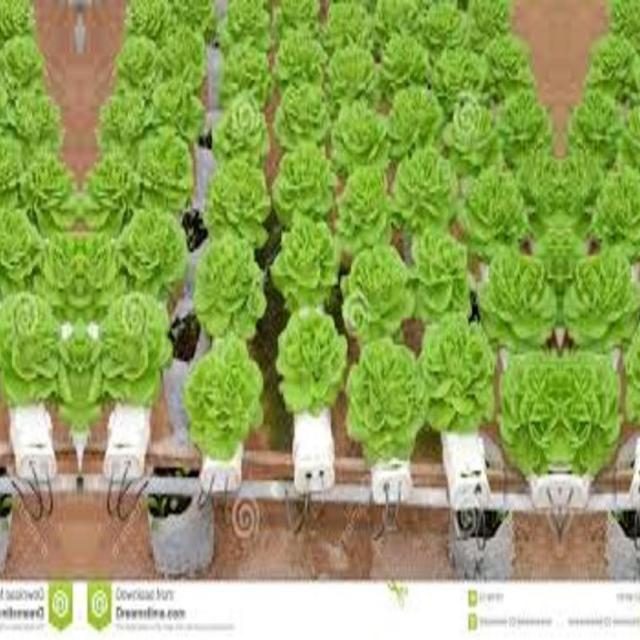healthy: (341, 331, 425, 464), (472, 242, 560, 356), (418, 316, 496, 438), (188, 338, 266, 458), (560, 241, 640, 356), (96, 294, 176, 408), (494, 348, 560, 482), (560, 348, 626, 482), (196, 234, 270, 350), (278, 310, 348, 418), (344, 243, 414, 347), (0, 293, 63, 408), (268, 213, 339, 315), (406, 224, 474, 330), (459, 158, 529, 258), (119, 202, 188, 296), (398, 144, 462, 242), (134, 123, 200, 217), (210, 157, 274, 247), (276, 137, 340, 227), (442, 88, 506, 176), (21, 153, 80, 247), (80, 153, 138, 247), (386, 80, 449, 162), (80, 231, 134, 325), (26, 231, 80, 325), (212, 92, 276, 170), (338, 162, 397, 246), (591, 158, 640, 258), (516, 140, 560, 246), (560, 140, 604, 246), (378, 28, 444, 98), (336, 98, 392, 176), (223, 30, 279, 106), (498, 88, 552, 166), (568, 88, 622, 166), (149, 77, 209, 147), (92, 78, 148, 152), (12, 78, 68, 152), (438, 40, 497, 110), (278, 78, 334, 150), (0, 201, 41, 296), (326, 42, 382, 108), (160, 26, 214, 88), (278, 28, 328, 94), (418, 0, 474, 56), (111, 30, 163, 90), (324, 0, 376, 58), (214, 0, 278, 46), (0, 30, 49, 90), (483, 32, 535, 88), (585, 32, 637, 88), (364, 1, 428, 44), (119, 0, 175, 46), (0, 123, 26, 217), (614, 88, 640, 176), (624, 315, 640, 438), (463, 0, 520, 34), (0, 0, 41, 45), (173, 0, 216, 36), (270, 0, 326, 26), (599, 0, 640, 34), (623, 40, 640, 110), (0, 77, 11, 147)
